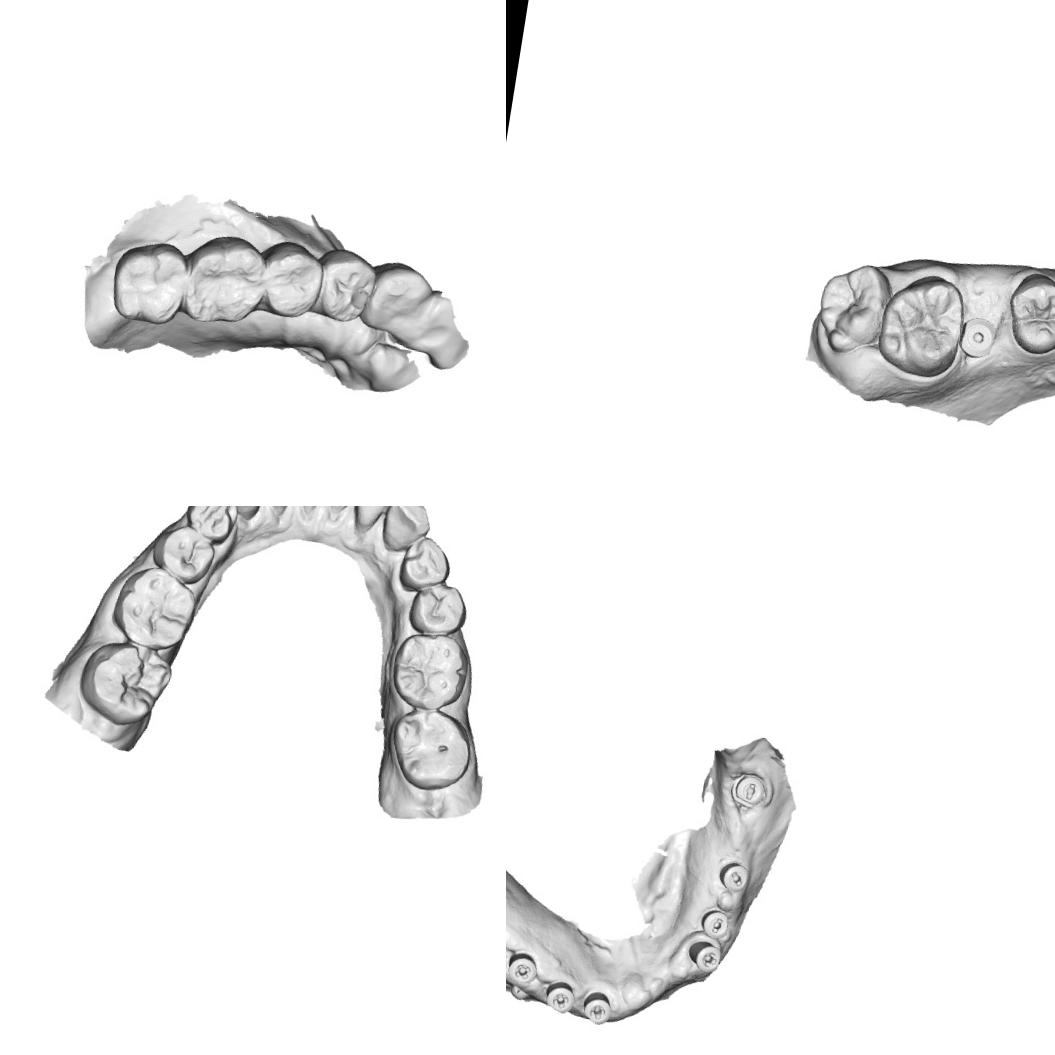canine: (362, 256, 434, 337), (378, 506, 434, 557), (218, 506, 273, 524)
implant: (957, 316, 999, 358)
implant_minus: (727, 766, 771, 812), (716, 859, 754, 896), (698, 906, 732, 940)
implant_plus: (684, 936, 726, 976), (541, 977, 581, 1017), (579, 988, 616, 1030), (506, 949, 542, 988)
incisor: (347, 506, 401, 540)
molar: (872, 268, 968, 380), (73, 634, 178, 732), (178, 228, 270, 334), (808, 255, 896, 360), (107, 560, 202, 655), (382, 703, 476, 797), (386, 628, 473, 716), (107, 238, 192, 328)
premolar: (256, 238, 328, 322), (312, 245, 378, 328), (148, 520, 218, 588), (1002, 271, 1055, 360), (406, 579, 472, 640), (396, 533, 455, 595), (182, 506, 241, 545)
